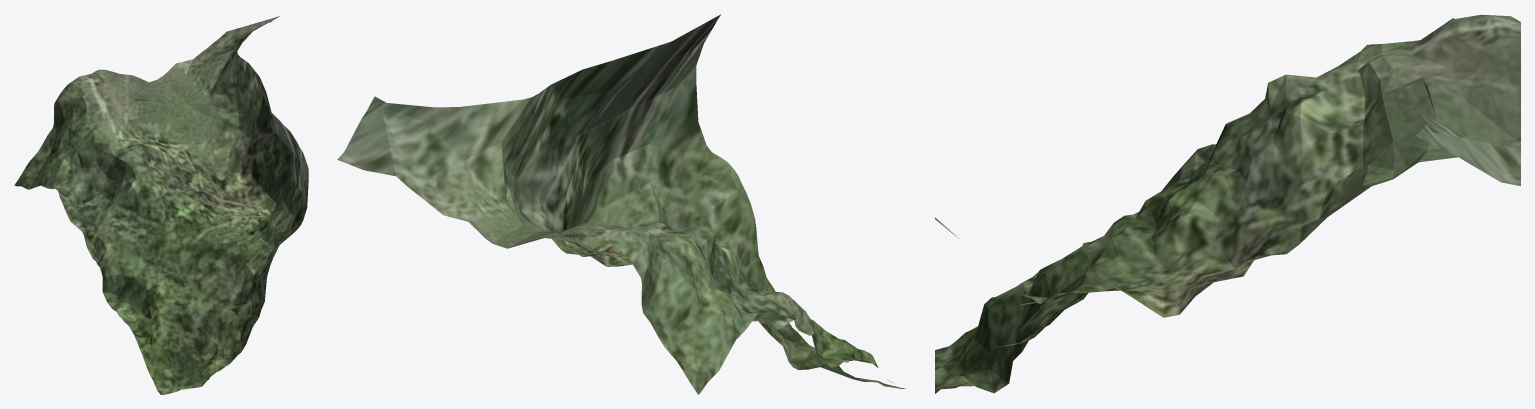
3 renders of one model, left to right at view 1: azimuth 30°, elevation 25°; view 2: azimuth 150°, elevation 25°; view 3: azimuth 270°, elevation 25°, orthographic. The views are drawn at different scales.
Size of the model in its own units: 5.9 by 5.17 by 5.9.
Materials: 3 (3 with a texture image).
